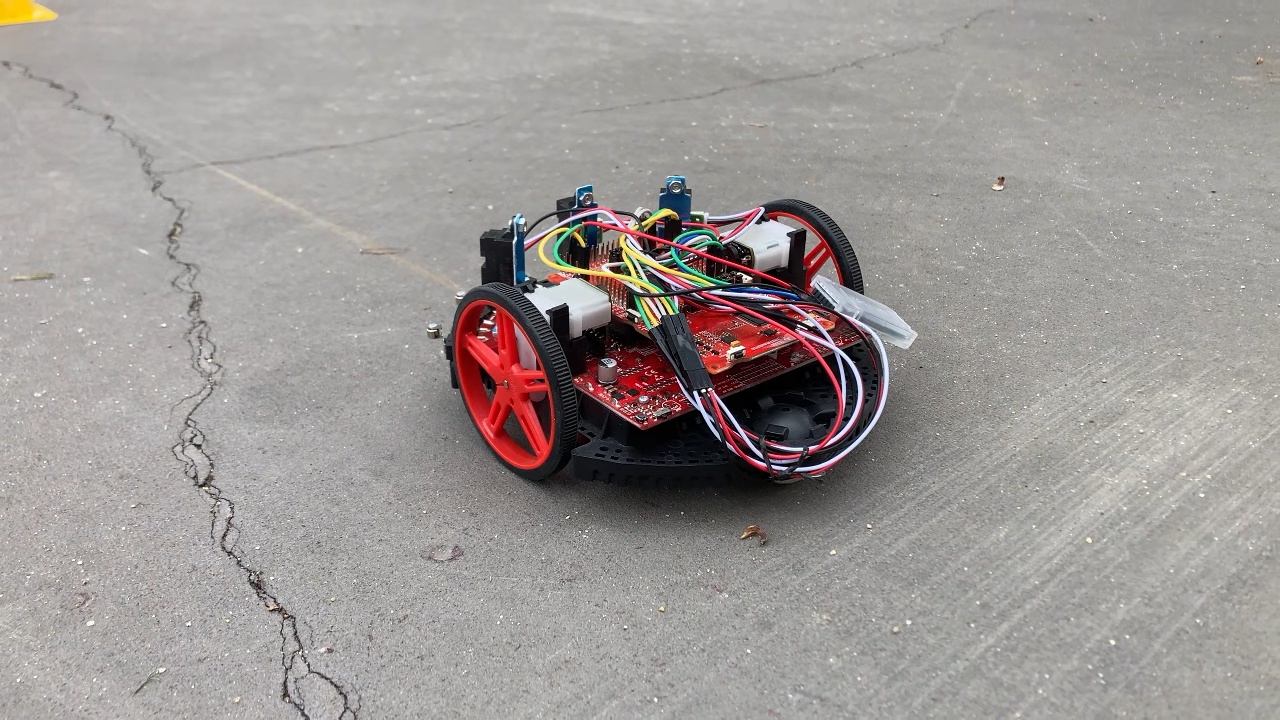robot: (424, 173, 921, 495)
